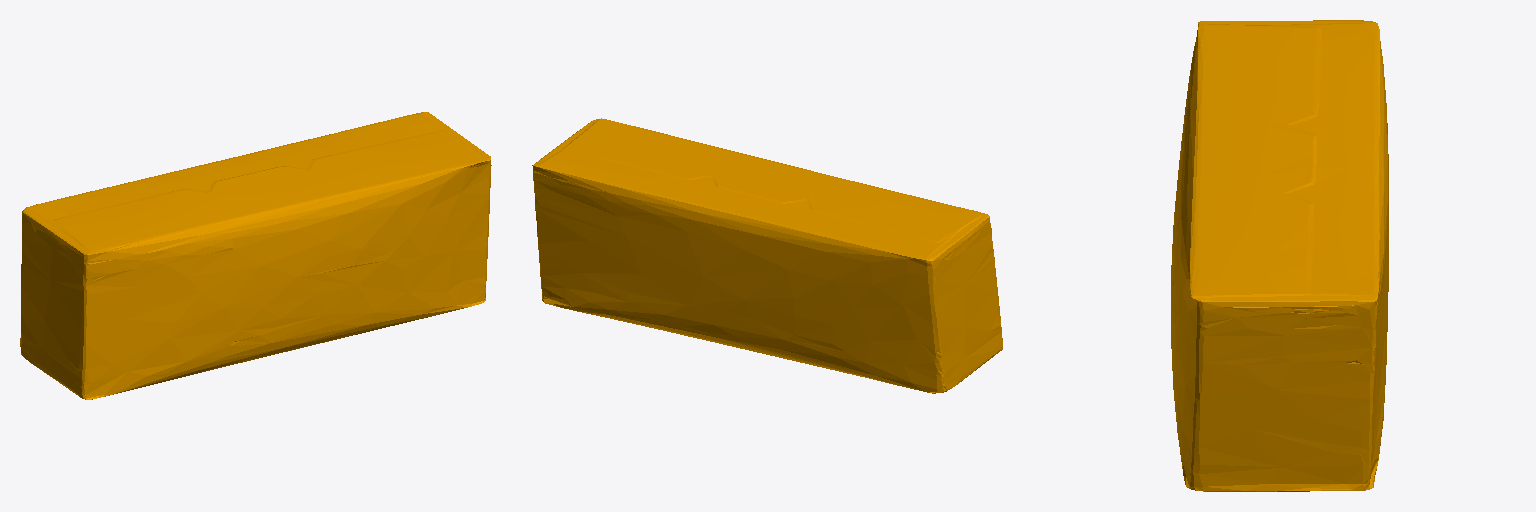
robot.urdf — cereal_box:
<?xml version="1.0"?>
<robot name="cereal_box">

  <link name="body">
    <collision>
        <origin xyz= "0.0 0.0 0.0" rpy="0 0 0"/>
        <geometry>
            <mesh filename="./meshes/cereal_box.obj" scale="0.85 1 0.20"/>
        </geometry>
        <surface>
        <contact>
          <collide_without_contact>false</collide_without_contact>
        </contact>
        </surface>
    </collision>

    <visual name='visual'>
        <origin xyz= "0.0 0.0 0.0" rpy="0 0 0"/>
        <geometry>
            <mesh filename="./meshes/cereal_box.obj" scale="0.85 1 0.20"/>
        </geometry>
    </visual>

    <inertial>
      <origin xyz= "0.0 0.0 0.02" rpy="0 0 0"/>
      <mass value="0.250"/>
      <inertia ixx="0.02" ixy="0.0" ixz="0.0" iyy="0.02" iyz="0.0" izz="0.02" />
    </inertial>
  </link>
  
</robot>

--- What the picture shows (computed from the rendered views, not written in the file) ---
Views: 3 orthographic renders of the robot side by side, from view 1: azimuth 30°, elevation 25°; view 2: azimuth 150°, elevation 25°; view 3: azimuth 270°, elevation 25°.
Robot: cereal_box — 1 links, 0 joints (none); root link body; default pose: all joints at 0.
Visible links, largest first — view 1: body; view 2: body; view 3: body.
Link boxes in pixels (bbox=[...]): body: bbox=[20, 112, 491, 399]; body: bbox=[532, 118, 1002, 393]; body: bbox=[1171, 20, 1388, 491].
Size in the robot's own frame: 0.1722 by 0.0556 by 0.0563 metres.
Meshes: 1 distinct files referenced, 1 mesh visuals loaded (1 OBJ).